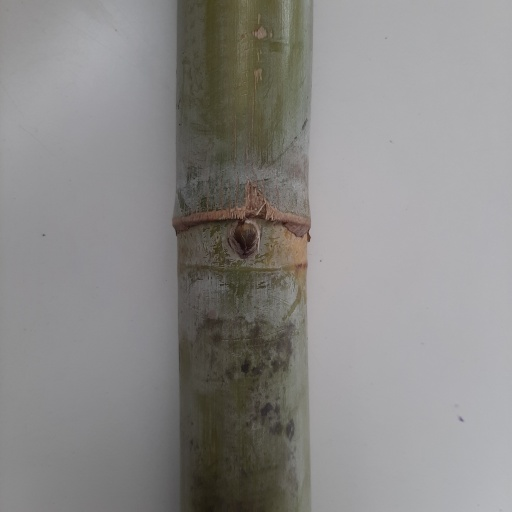Bud: (230, 221, 261, 260)
